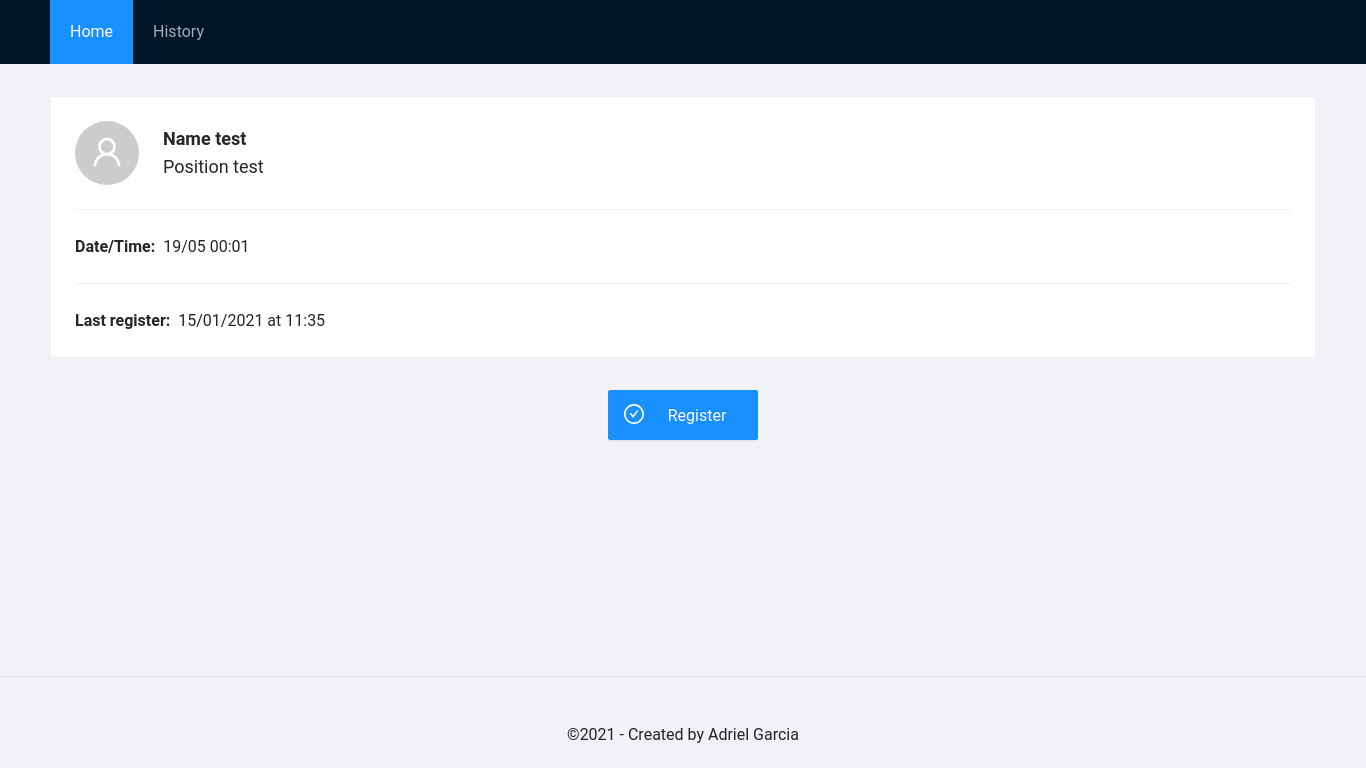
it: Home page › should close success modal when click on OK button
Expected: the text "Name test" is shown, [163, 125, 246, 153]
Click the button "Register".
click(683, 415)  # box [608, 390, 758, 440]
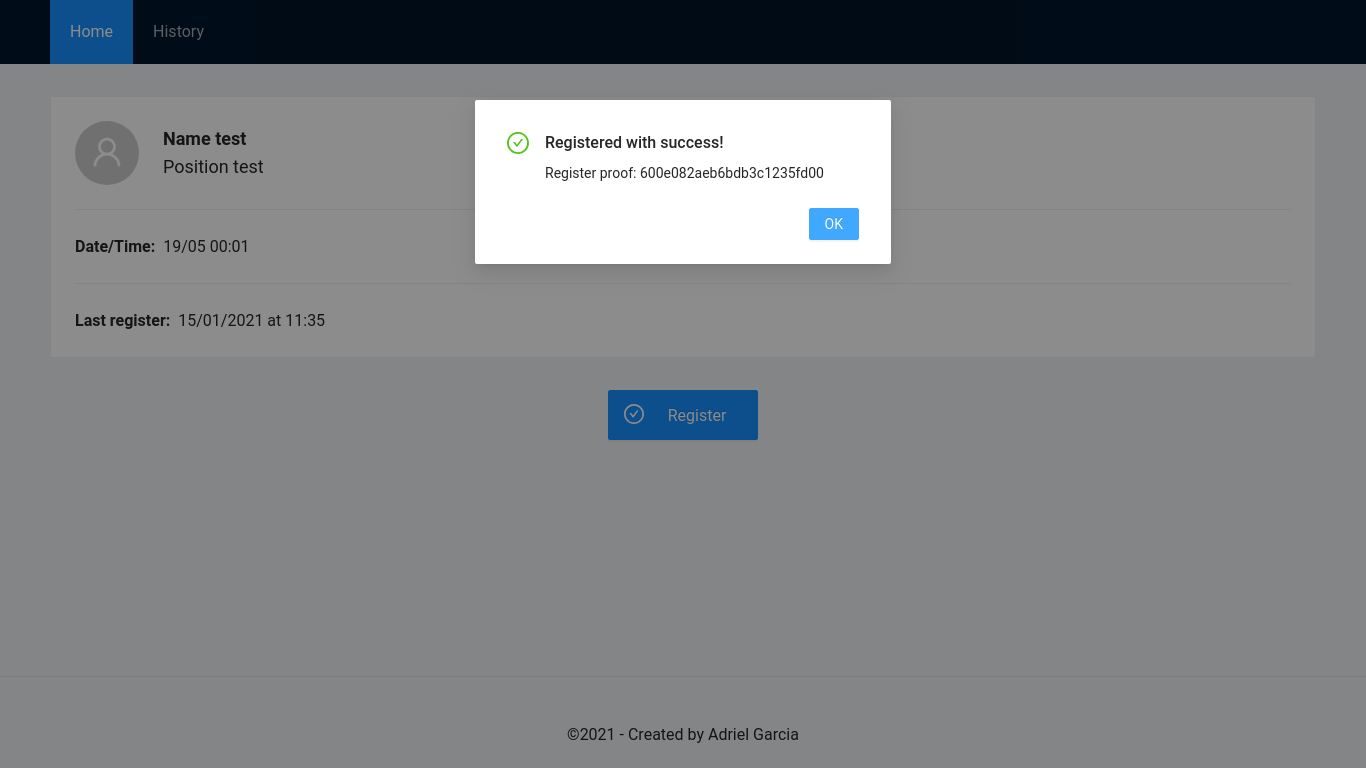
Result: the text "Registered with success!" is shown at [545, 133, 724, 152]
Click the button "OK".
click(834, 224)  # box [809, 208, 859, 240]
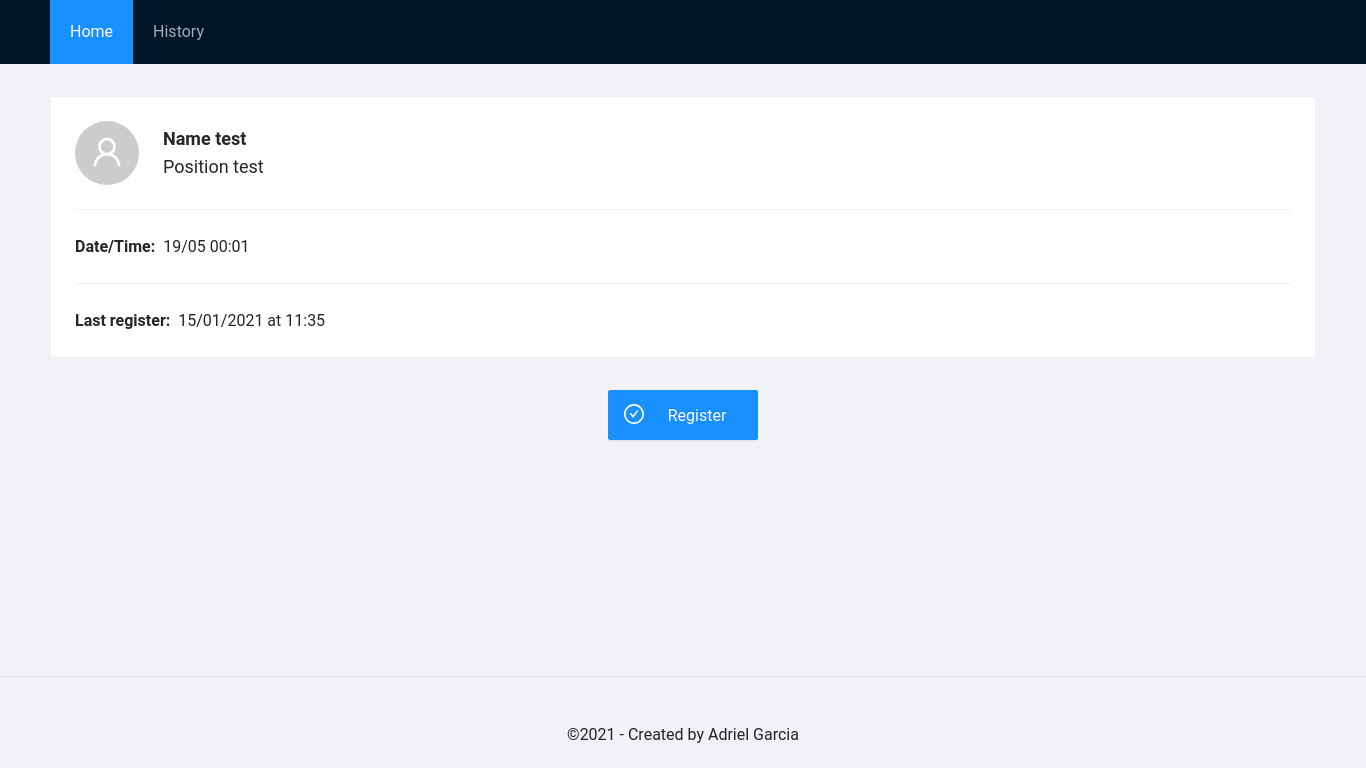
Result: the text "Registered with success!" is gone
